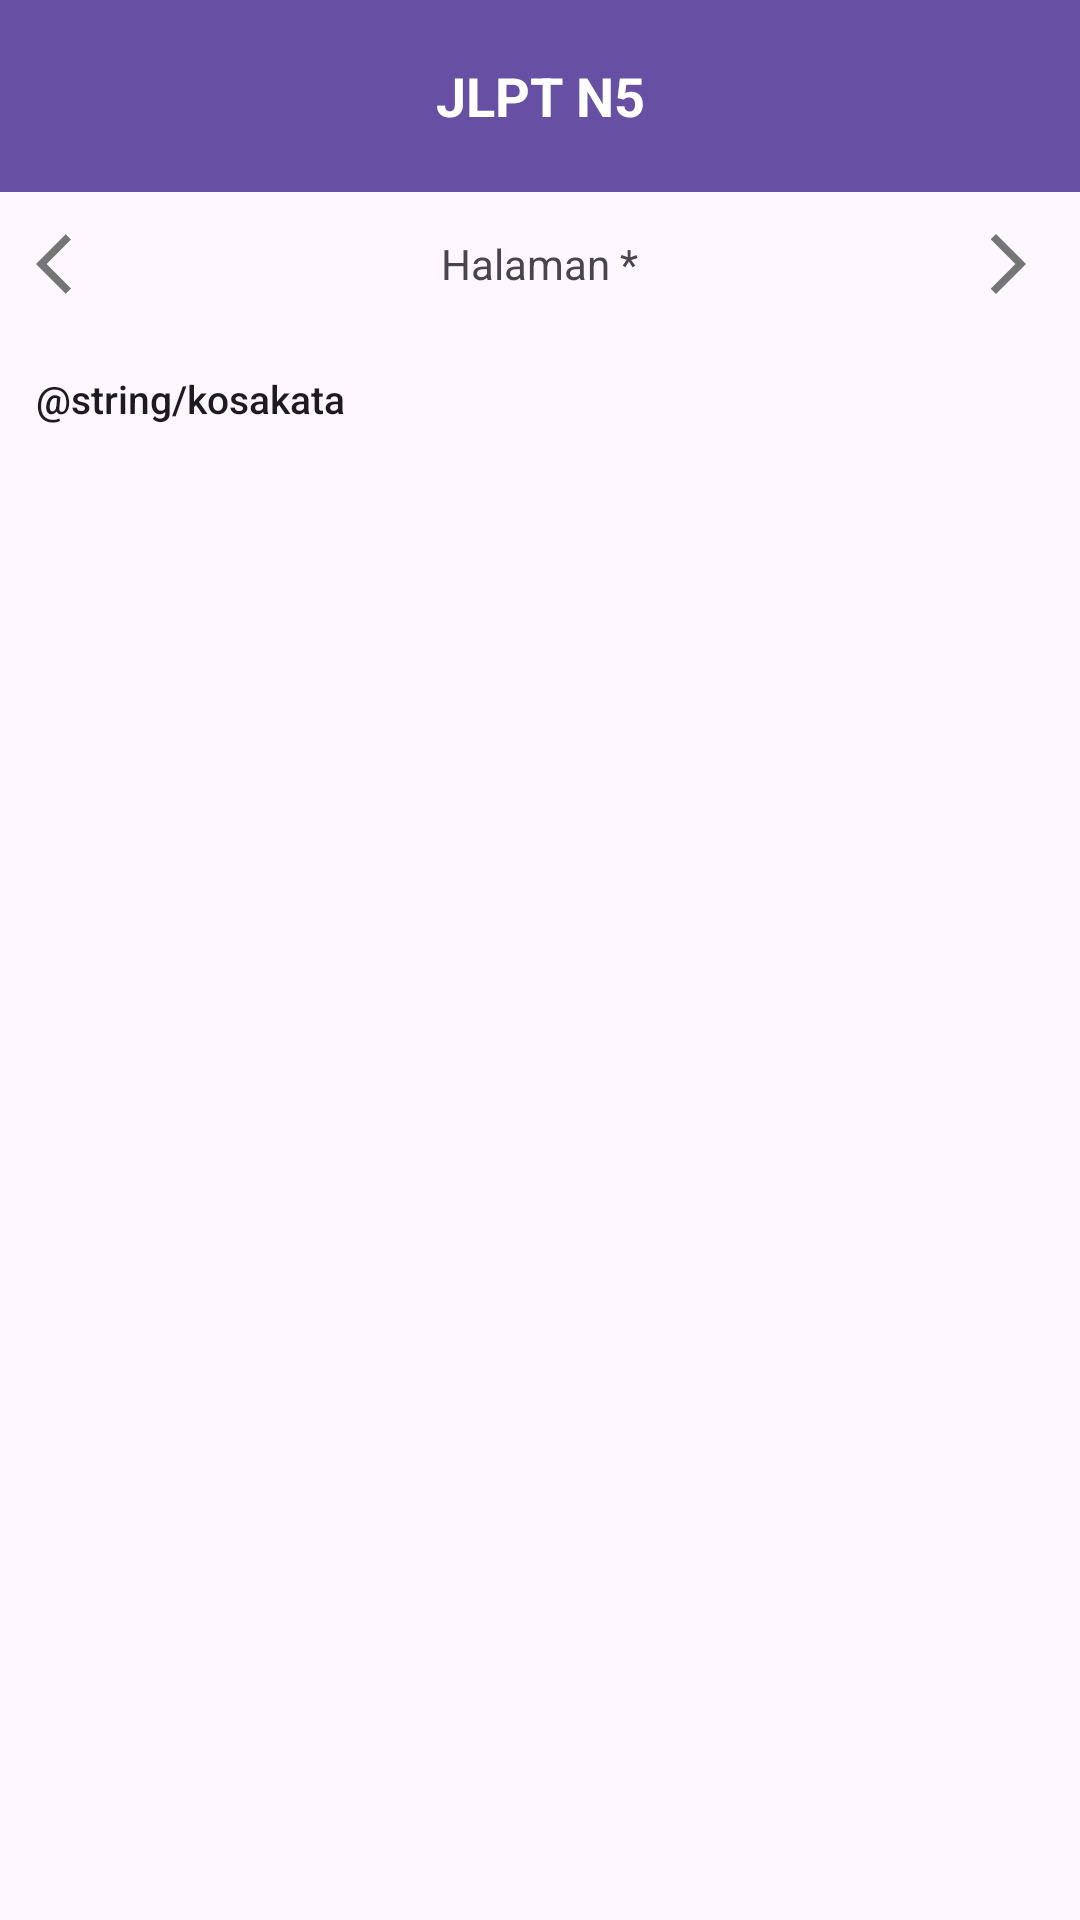

Screen size 1080 x 1920. Icon name, then its center in pixels as point (x, y):
arrow back: point (53, 264)
arrow forward: point (1008, 264)
